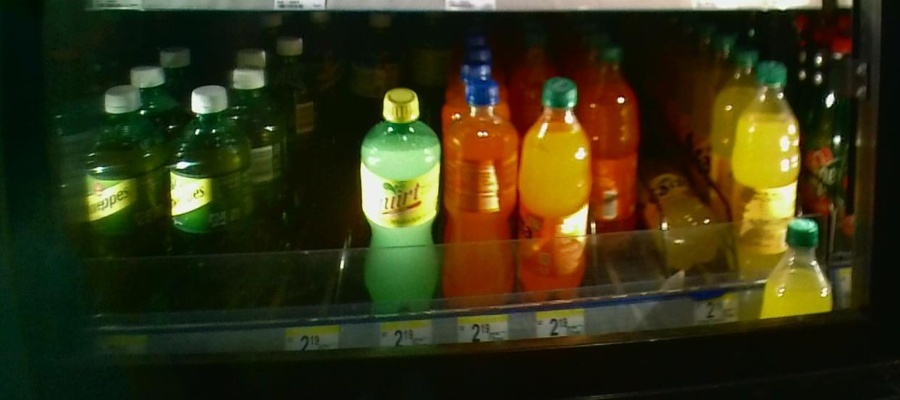bottle: (165, 81, 259, 318), (357, 90, 442, 315), (83, 78, 163, 309), (444, 83, 515, 323), (517, 71, 586, 309), (734, 58, 802, 275), (589, 50, 642, 254), (653, 166, 716, 280), (344, 14, 387, 129)
